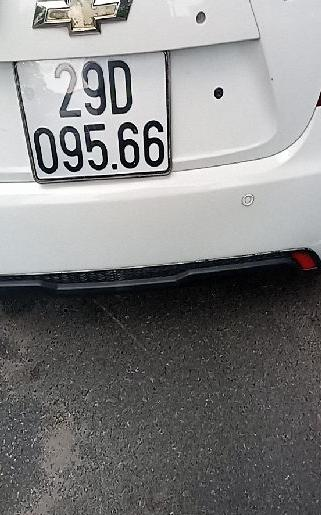Plate-iWeP: (13, 55, 178, 182)
